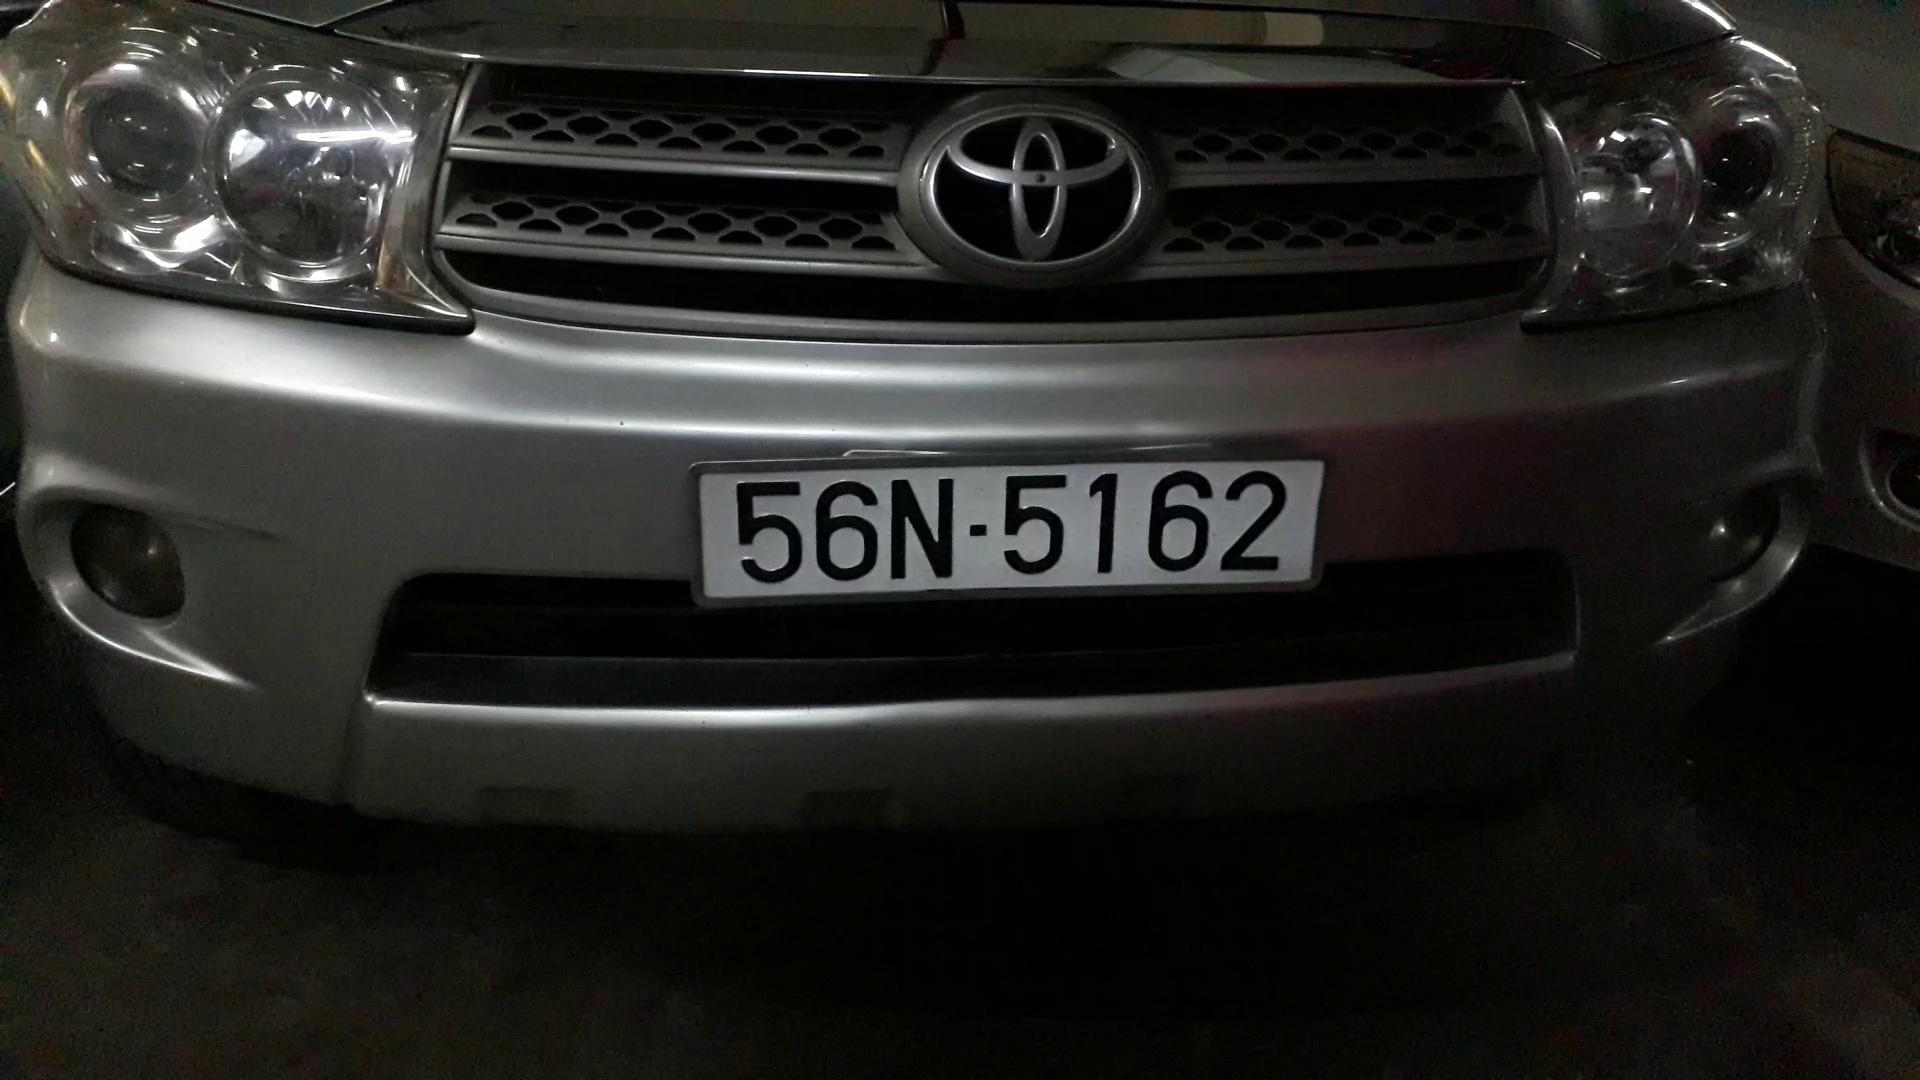numplate: (697, 447, 1363, 613)
